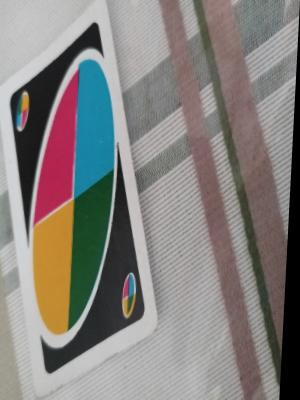wild: (121, 271, 144, 327), (12, 90, 35, 134)
